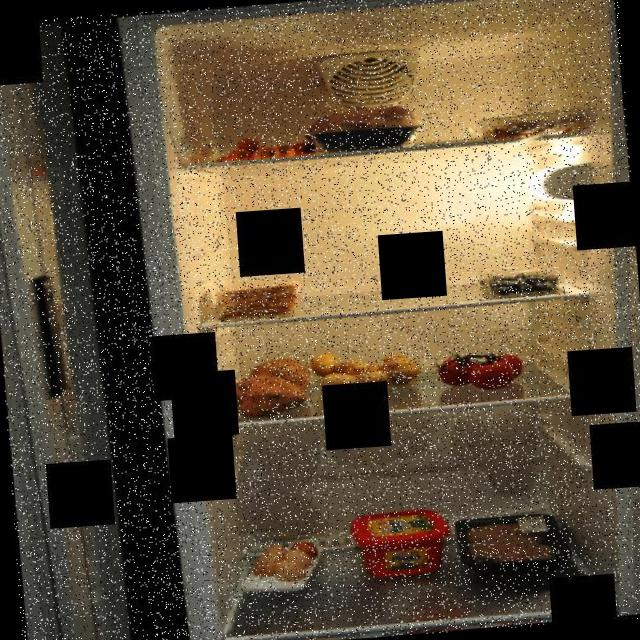Carne pollo: (454, 511, 568, 586), (306, 98, 423, 158)
Gambas/Langostinos: (482, 111, 584, 141)
Huevos: (248, 532, 322, 586)
Mantequilla: (348, 505, 454, 581)
Patata: (303, 345, 423, 397)
Tomate: (430, 344, 526, 396)
Zanahoria: (212, 127, 316, 165)
blueberries: (477, 266, 563, 298)
bread: (206, 277, 304, 324)
sweet_potato: (222, 354, 310, 422)
